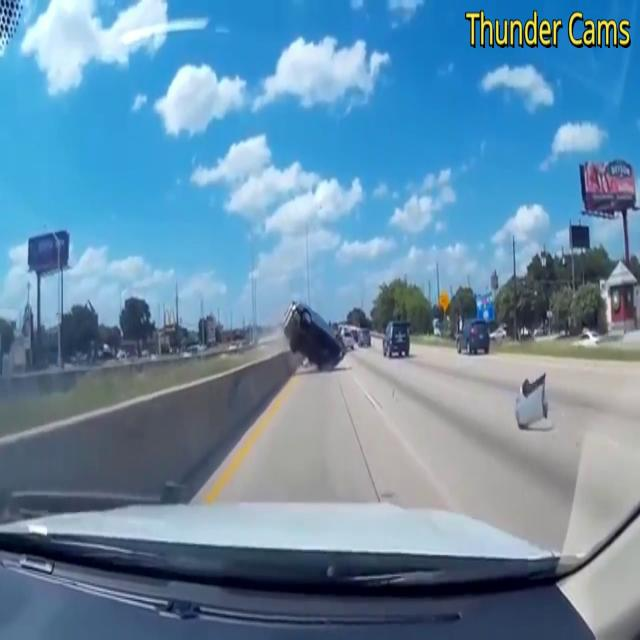accident: (281, 296, 345, 372)
